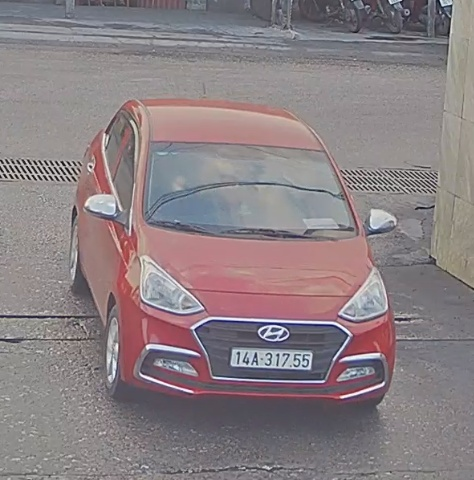vehicle plate: (224, 344, 317, 377)
